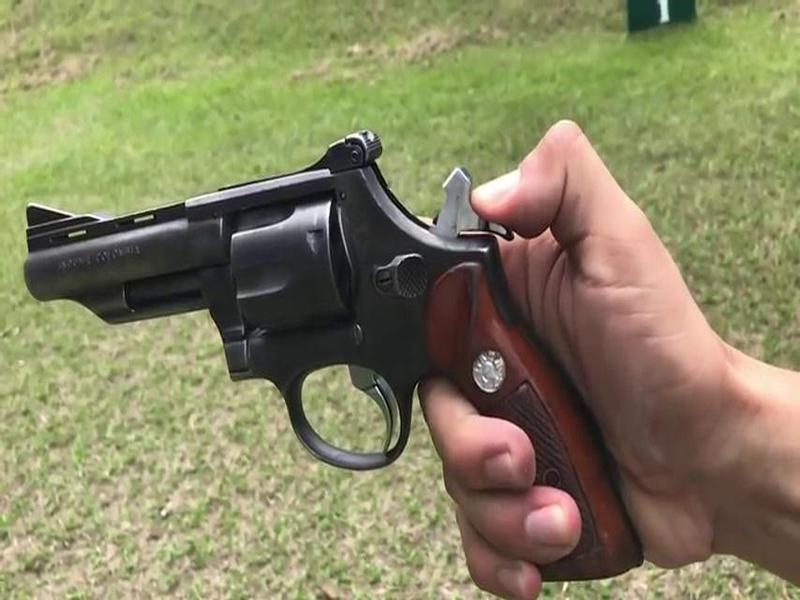Revolver: (10, 121, 669, 584)
